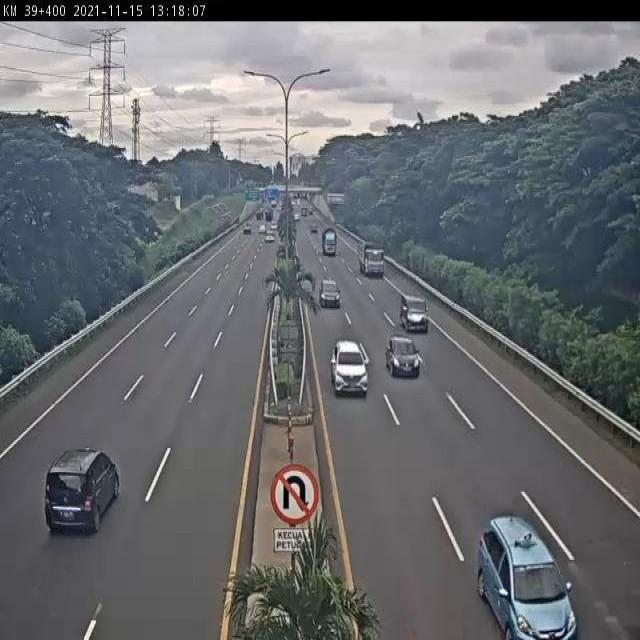car: (477, 512, 576, 640), (45, 445, 122, 532), (330, 341, 369, 395), (385, 336, 421, 379), (400, 292, 429, 332), (319, 279, 342, 308)
truck-m-: (356, 240, 386, 277)
